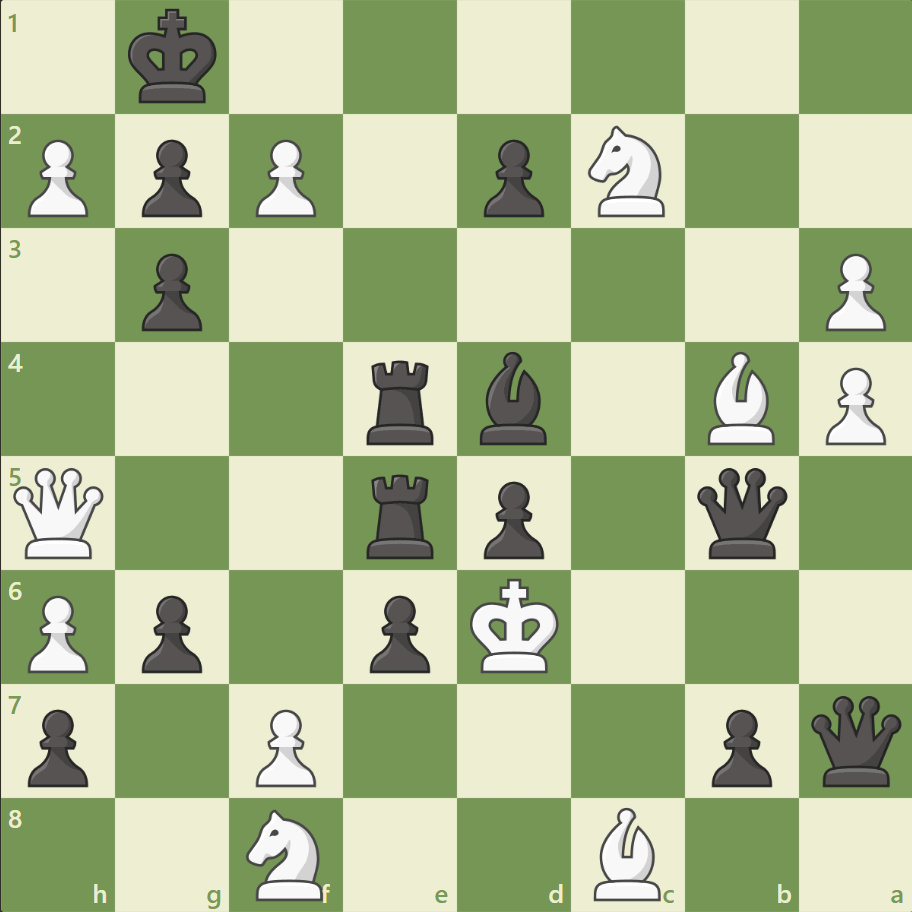B: (585, 801, 669, 904), (698, 347, 782, 449)
K: (465, 571, 565, 679)
N: (238, 802, 335, 904), (579, 121, 676, 223)
P: (247, 700, 322, 791), (20, 586, 95, 677), (247, 132, 322, 223), (20, 132, 95, 223), (815, 359, 889, 450), (815, 246, 889, 337)
Q: (10, 463, 109, 562)
b: (471, 347, 555, 449)
k: (124, 4, 224, 112)
p: (701, 700, 776, 791), (20, 700, 95, 791), (133, 586, 208, 677), (474, 473, 549, 564), (133, 246, 208, 337), (474, 132, 549, 223), (133, 132, 208, 223), (361, 586, 435, 677)
q: (805, 690, 904, 789), (691, 463, 790, 562)
r: (360, 466, 442, 563), (360, 352, 442, 449)
